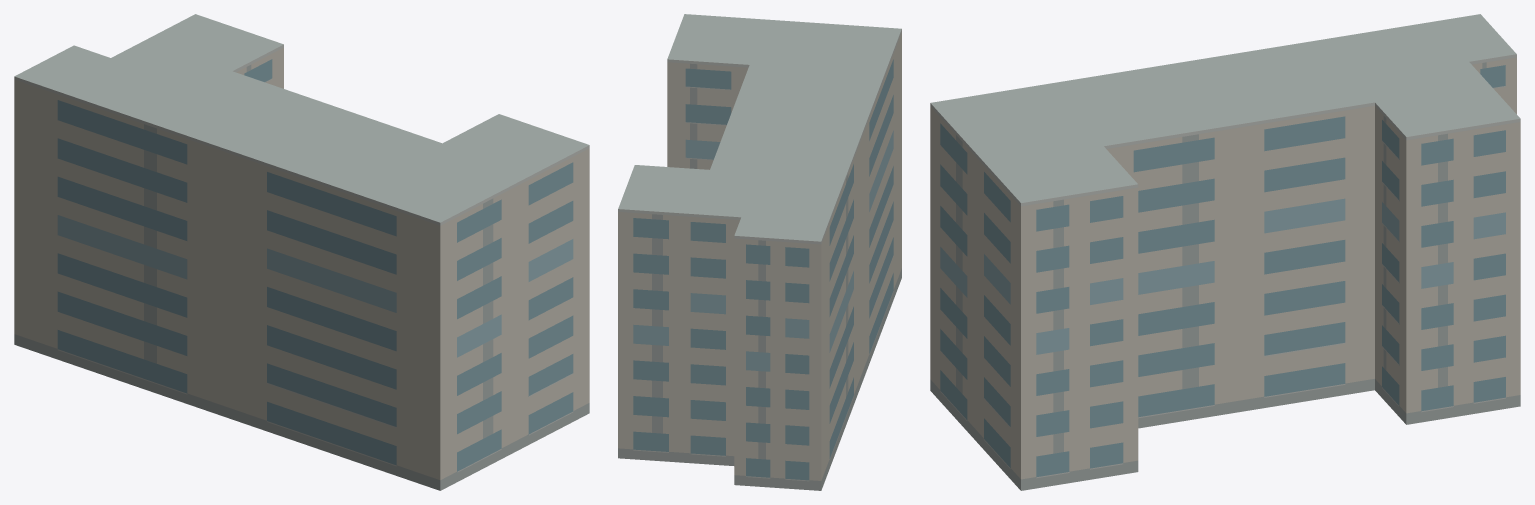
The model's file is residential-885a9c11-e0d1-4997-8885-bbb4927a2613.glb.
The picture shows the model from 3 angles, left to right: view 1: azimuth 30°, elevation 25°; view 2: azimuth 150°, elevation 25°; view 3: azimuth 270°, elevation 25°; orthographic projection. The views are drawn at different scales.
Parts seen in each view (by area): view 1: residential-885a9c11-e0d1-4997-8885-bbb4927a2613.tmp; view 2: residential-885a9c11-e0d1-4997-8885-bbb4927a2613.tmp; view 3: residential-885a9c11-e0d1-4997-8885-bbb4927a2613.tmp.
Boxes of the visible parts, x1=… form: residential-885a9c11-e0d1-4997-8885-bbb4927a2613.tmp: x1=14, y1=14, x2=589, y2=490; residential-885a9c11-e0d1-4997-8885-bbb4927a2613.tmp: x1=618, y1=14, x2=901, y2=490; residential-885a9c11-e0d1-4997-8885-bbb4927a2613.tmp: x1=930, y1=14, x2=1520, y2=490.
Bounding box in the file's own units: 30.12 × 21.35 × 39.71.
